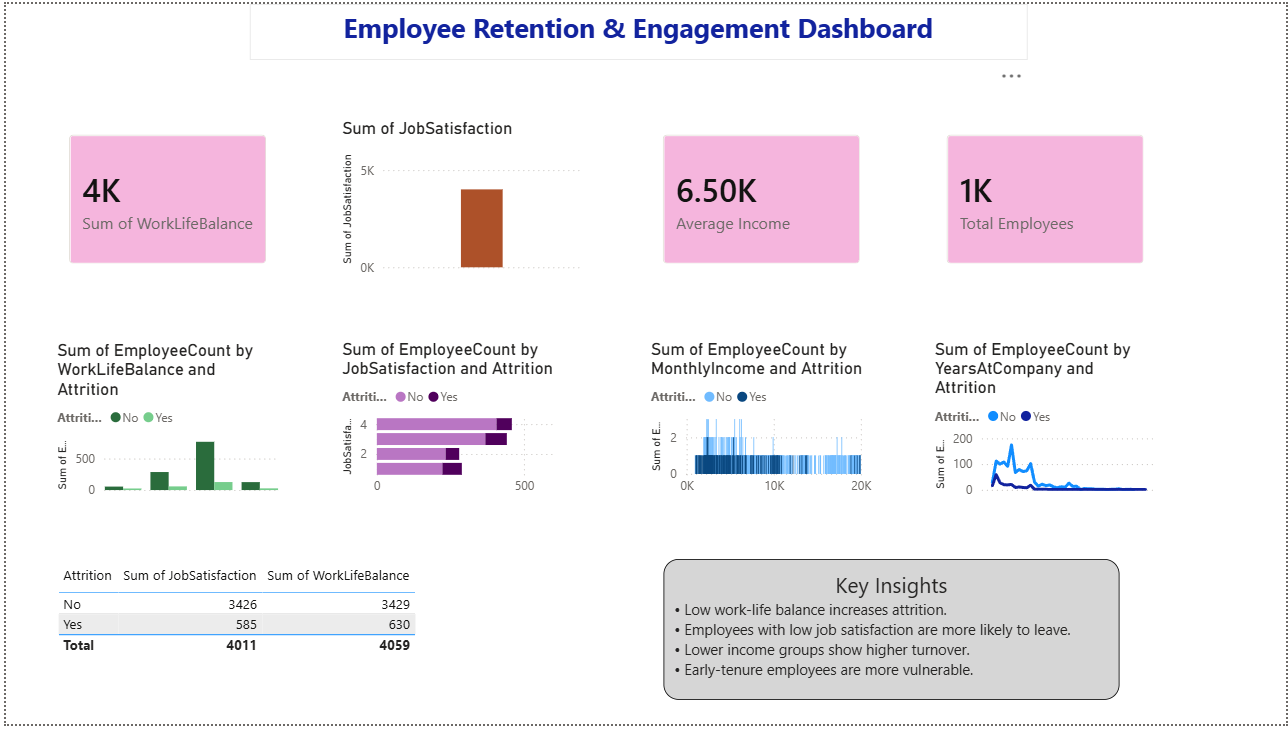

The dashboard page shown, as its layout file describes it:
{"tool":"powerbi","page":{"name":"Employee Retention","canvas":[1280,720],"ordinal":3},"visuals":[{"type":"textbox","box":[243.8,0,776.9,56.4],"z":0},{"type":"cardVisual","fields":{"Data":["Sum(WA_Fn-UseC_-HR-Employee-Attrition.WorkLifeBalance)"]},"box":[46.2,113.8,231.2,163.8],"z":1000},{"type":"clusteredColumnChart","fields":{"Y":["Sum(WA_Fn-UseC_-HR-Employee-Attrition.JobSatisfaction)"]},"box":[331.2,113.8,250,163.8],"z":2000},{"type":"cardVisual","fields":{"Data":["WA_Fn-UseC_-HR-Employee-Attrition.Average Income"]},"box":[640,113.8,231.2,163.8],"z":3000},{"type":"cardVisual","fields":{"Data":["WA_Fn-UseC_-HR-Employee-Attrition.Total Employees"]},"box":[923.8,113.8,231.2,163.8],"z":4000},{"type":"clusteredColumnChart","fields":{"Y":["Sum(WA_Fn-UseC_-HR-Employee-Attrition.EmployeeCount)"],"Category":["WA_Fn-UseC_-HR-Employee-Attrition.WorkLifeBalance"],"Series":["WA_Fn-UseC_-HR-Employee-Attrition.Attrition"]},"box":[46,336,231,164],"z":5000},{"type":"barChart","fields":{"Category":["WA_Fn-UseC_-HR-Employee-Attrition.JobSatisfaction"],"Y":["Sum(WA_Fn-UseC_-HR-Employee-Attrition.EmployeeCount)"],"Series":["WA_Fn-UseC_-HR-Employee-Attrition.Attrition"]},"box":[331.2,335,231.2,165],"z":6000},{"type":"clusteredColumnChart","fields":{"Category":["WA_Fn-UseC_-HR-Employee-Attrition.MonthlyIncome"],"Y":["Sum(WA_Fn-UseC_-HR-Employee-Attrition.EmployeeCount)"],"Series":["WA_Fn-UseC_-HR-Employee-Attrition.Attrition"]},"box":[640,335,231,165],"z":7000},{"type":"lineChart","fields":{"Category":["WA_Fn-UseC_-HR-Employee-Attrition.YearsAtCompany"],"Y":["Sum(WA_Fn-UseC_-HR-Employee-Attrition.EmployeeCount)"],"Series":["WA_Fn-UseC_-HR-Employee-Attrition.Attrition"]},"box":[924,335,231,165],"z":8000},{"type":"tableEx","fields":{"Values":["WA_Fn-UseC_-HR-Employee-Attrition.Attrition","Sum(WA_Fn-UseC_-HR-Employee-Attrition.JobSatisfaction)","Sum(WA_Fn-UseC_-HR-Employee-Attrition.WorkLifeBalance)"]},"box":[46.8,554.7,368.6,165.7],"z":9000},{"type":"textbox","box":[658,554.7,456.3,140.5],"z":9001}]}

Visuals, with their boxes in screenshot pixels (x1, y1, x2, y2), scaled from the page's 1280x720 canvas onto the 1288x730 screenshot:
textbox: rect(245, 0, 1027, 57)
cardVisual - Sum(WA_Fn-UseC_-HR-Employee-Attrition.WorkLifeBalance): rect(46, 115, 279, 281)
clusteredColumnChart - Sum(WA_Fn-UseC_-HR-Employee-Attrition.JobSatisfaction): rect(333, 115, 585, 281)
cardVisual - WA_Fn-UseC_-HR-Employee-Attrition.Average Income: rect(644, 115, 877, 281)
cardVisual - WA_Fn-UseC_-HR-Employee-Attrition.Total Employees: rect(930, 115, 1162, 281)
clusteredColumnChart - Sum(WA_Fn-UseC_-HR-Employee-Attrition.EmployeeCount) x WA_Fn-UseC_-HR-Employee-Attrition.WorkLifeBalance: rect(46, 341, 279, 507)
barChart - WA_Fn-UseC_-HR-Employee-Attrition.JobSatisfaction x Sum(WA_Fn-UseC_-HR-Employee-Attrition.EmployeeCount): rect(333, 340, 566, 507)
clusteredColumnChart - WA_Fn-UseC_-HR-Employee-Attrition.MonthlyIncome x Sum(WA_Fn-UseC_-HR-Employee-Attrition.EmployeeCount): rect(644, 340, 876, 507)
lineChart - WA_Fn-UseC_-HR-Employee-Attrition.YearsAtCompany x Sum(WA_Fn-UseC_-HR-Employee-Attrition.EmployeeCount): rect(930, 340, 1162, 507)
tableEx - WA_Fn-UseC_-HR-Employee-Attrition.Attrition x Sum(WA_Fn-UseC_-HR-Employee-Attrition.JobSatisfaction): rect(47, 562, 418, 729)
textbox: rect(662, 562, 1121, 705)
